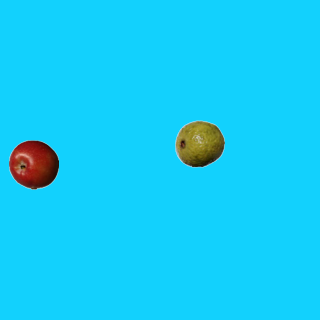Apple Braeburn: (8, 139, 58, 189)
Guava: (174, 118, 224, 168)
